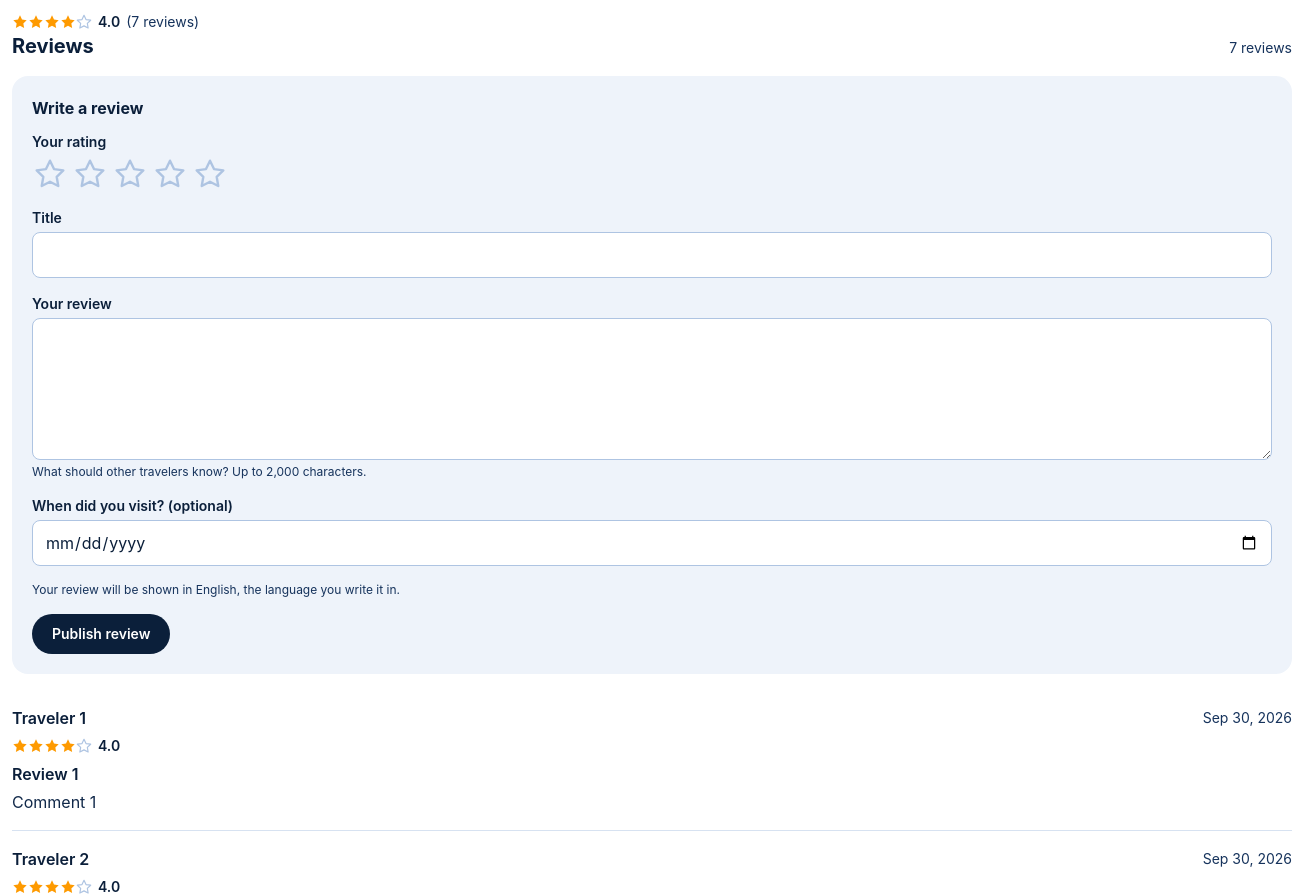
Test: ReviewsSection › publishes a review and updates the rating right away for its author
Expected: the picture named "Rated 4 out of 5, 7 reviews" is shown, [12, 13, 199, 30]
Click the radio button named "1 star" at (50,174), box [32, 156, 68, 192]
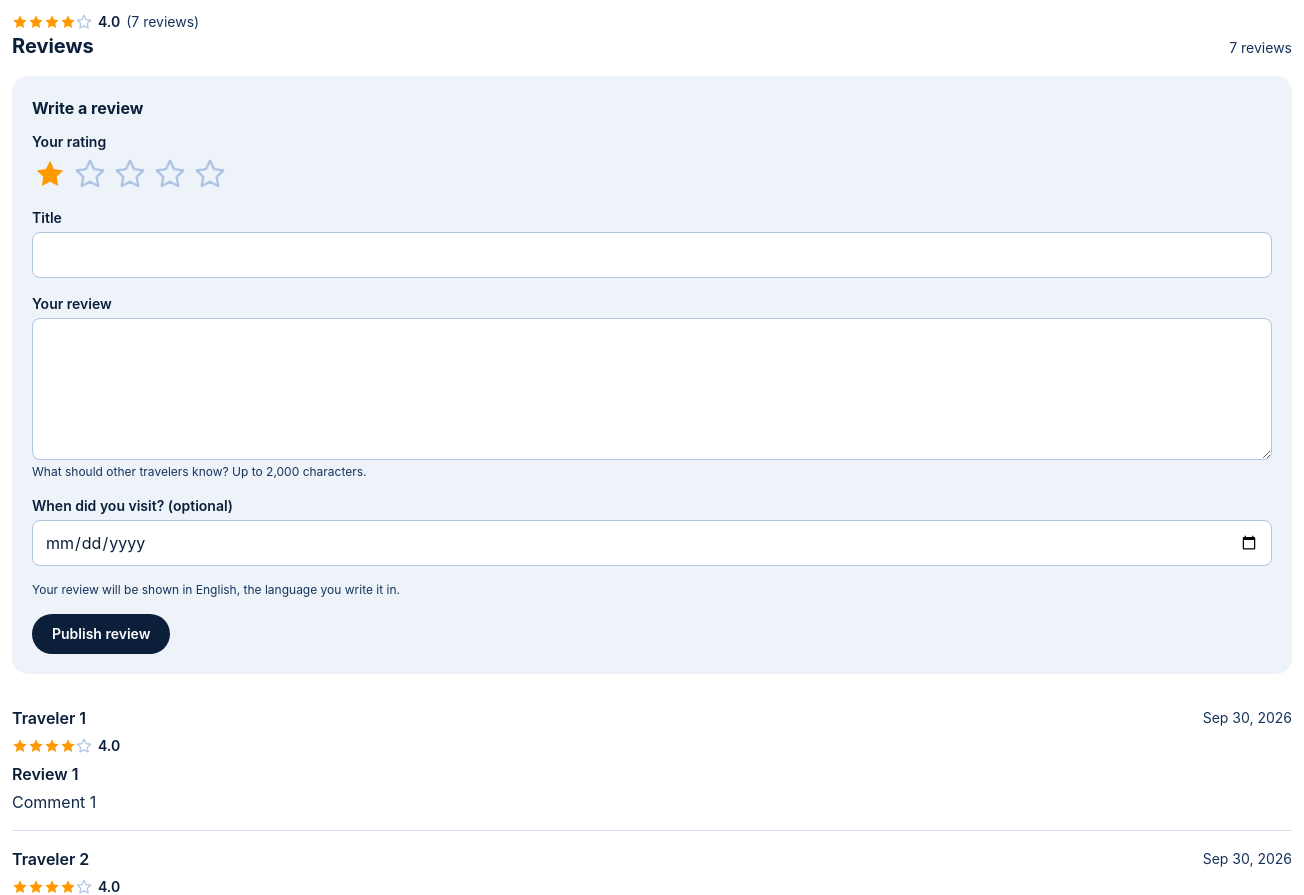
Type "Too crowded" into the field labelled "Title" at (652,255), box [32, 232, 1272, 278]
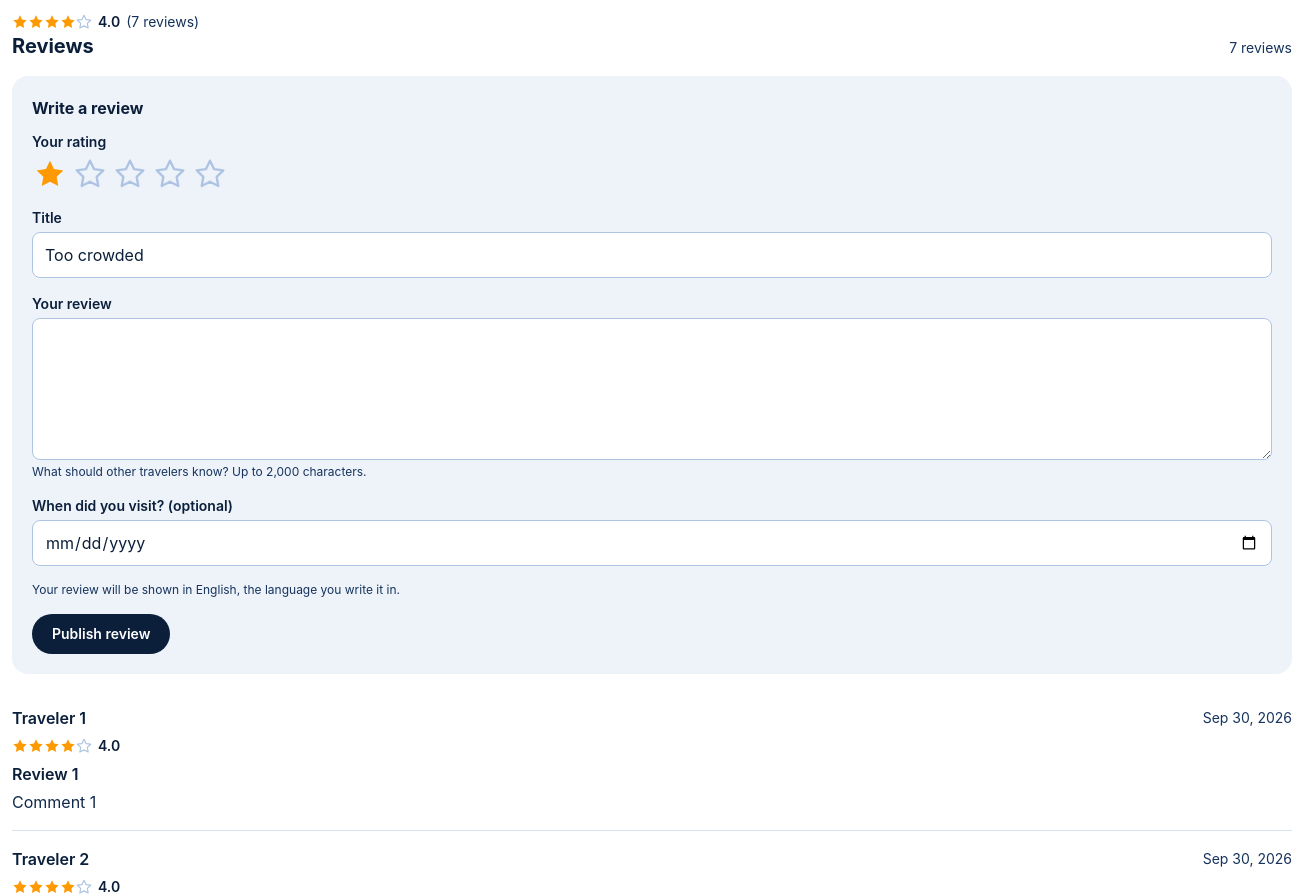
Type "Go early." into the text box labelled "Your review" at (652,389), box [32, 318, 1272, 460]
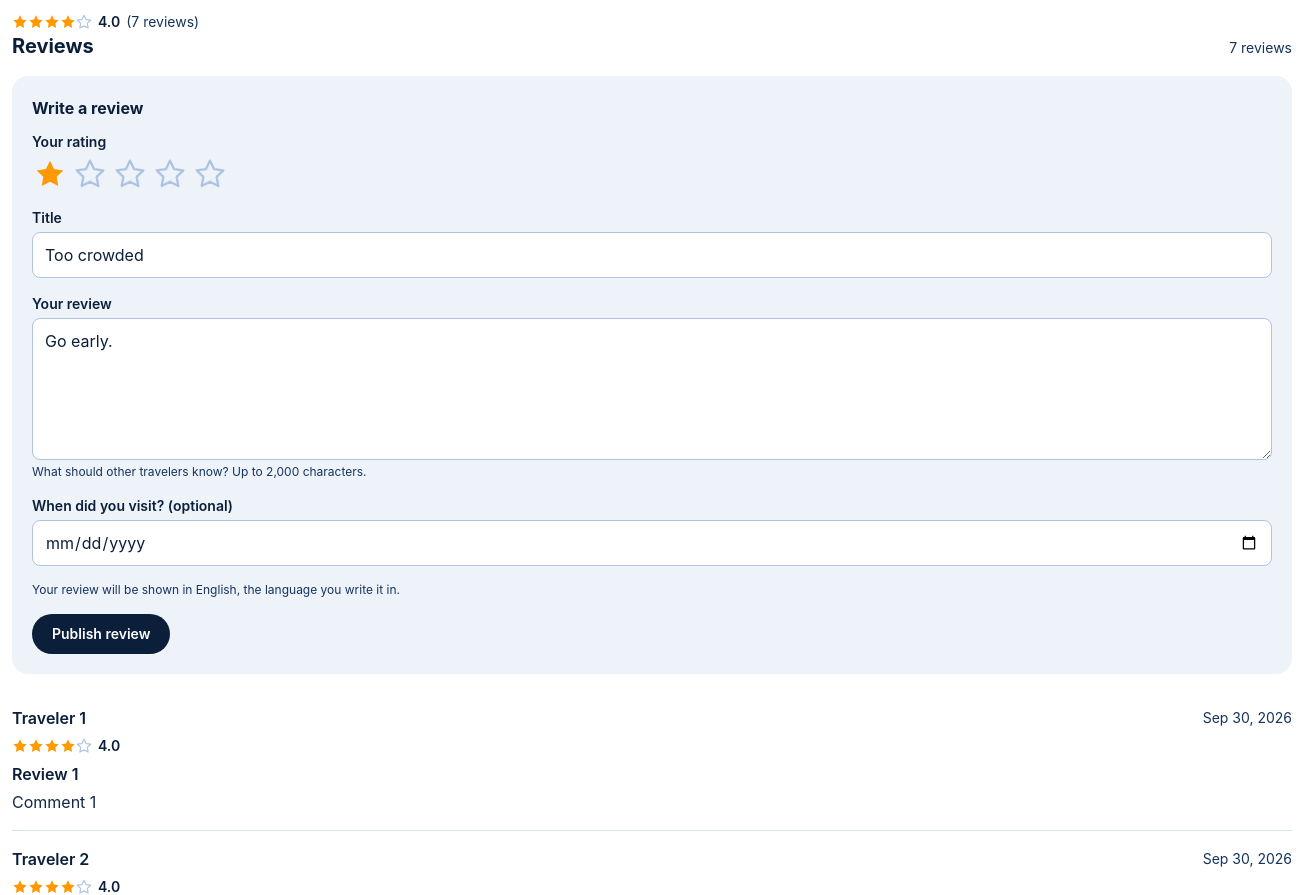
Click the button "Publish review" at (101,634), box [32, 614, 170, 654]
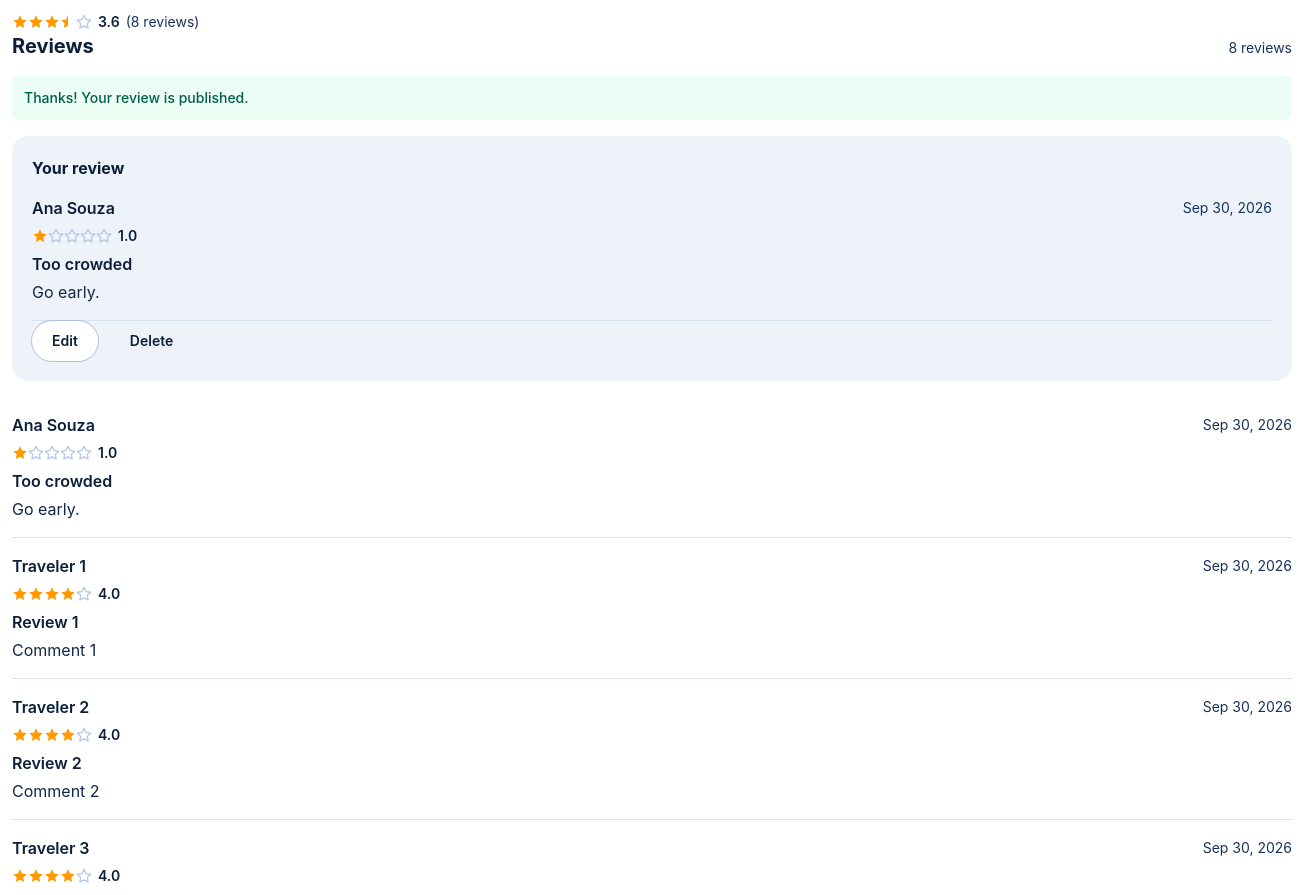
Result: the text "Thanks! Your review is published." is shown at [12, 76, 1292, 120]
Result: the picture named "Rated 3.63 out of 5, 8 reviews" is shown at [12, 13, 199, 30]
Result: the text "8 reviews" is shown at [1228, 38, 1292, 58]
